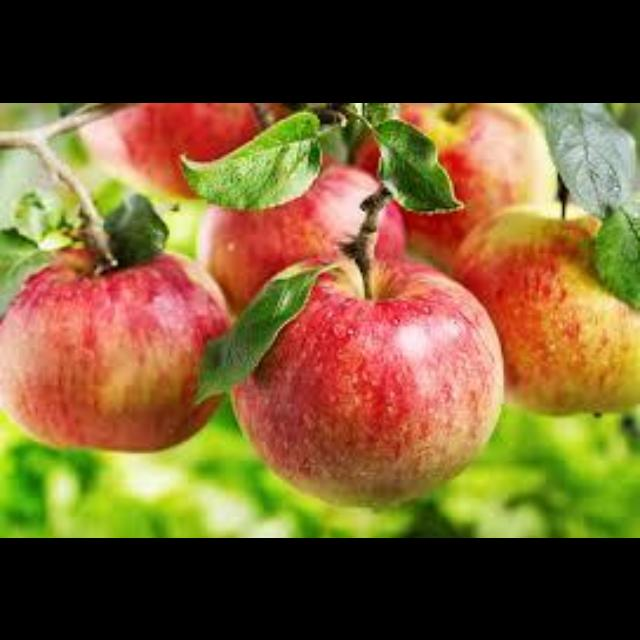apple: (233, 257, 501, 502), (0, 248, 228, 448), (449, 203, 638, 413), (198, 163, 374, 311), (400, 102, 555, 267), (400, 102, 555, 262), (80, 102, 256, 196), (376, 203, 405, 255), (355, 137, 376, 170)
